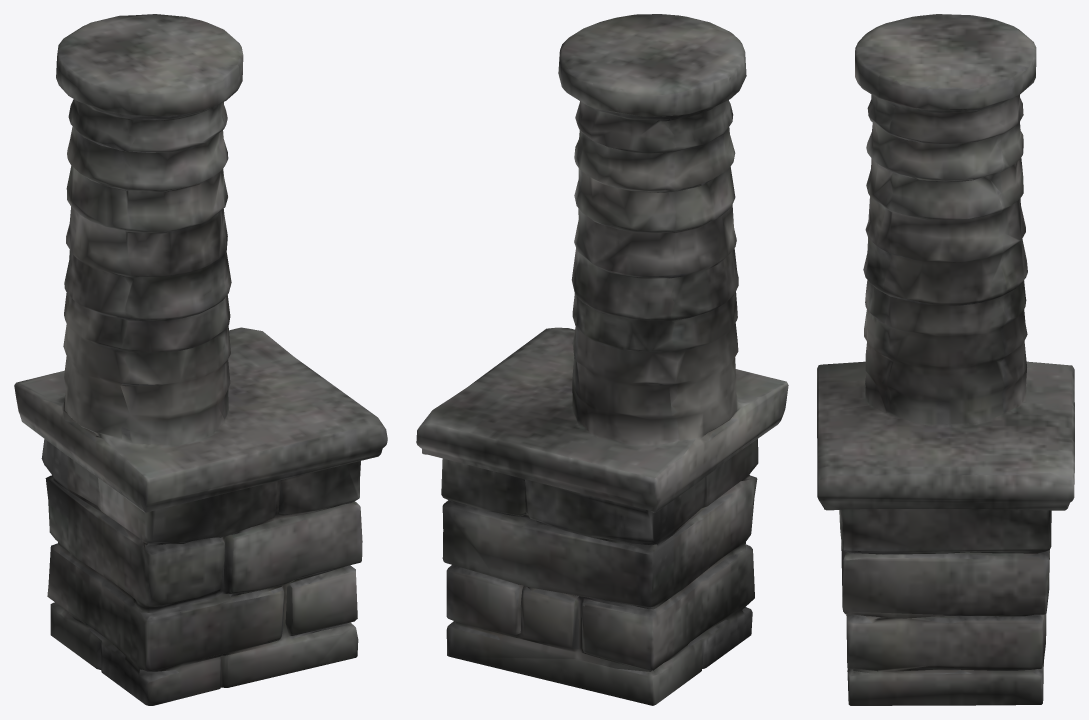
Rendered from old-granite-chimney-stack-v001.glb.
3 views of the same model, side by side, from view 1: azimuth 30°, elevation 25°; view 2: azimuth 150°, elevation 25°; view 3: azimuth 270°, elevation 25° (orthographic). The views are drawn at different scales.
Parts seen in each view (by area): view 1: old-granite-chimney-stack; view 2: old-granite-chimney-stack; view 3: old-granite-chimney-stack.
Part boxes in pixels (left/top/right/bottom): old-granite-chimney-stack: left=14, top=14, right=387, bottom=705; old-granite-chimney-stack: left=416, top=14, right=788, bottom=705; old-granite-chimney-stack: left=817, top=14, right=1074, bottom=705.
Bounding box in the file's own units: 0.7156 × 1.66 × 0.6628.
1 material, 1 textured.
